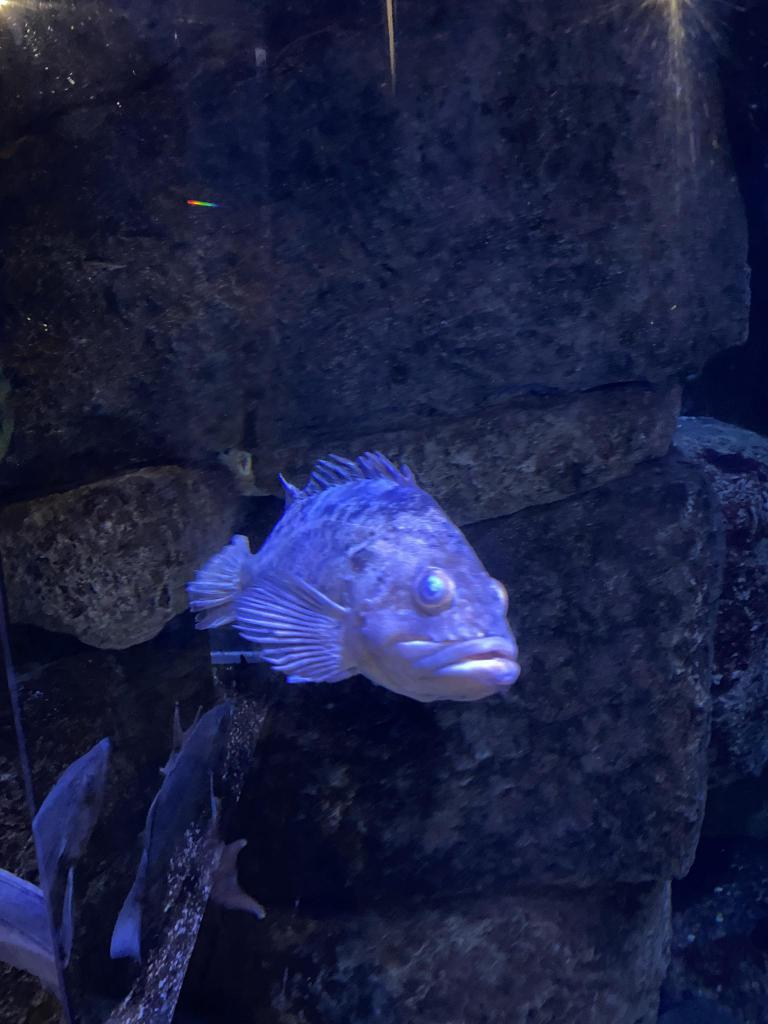fish: (188, 454, 520, 706)
